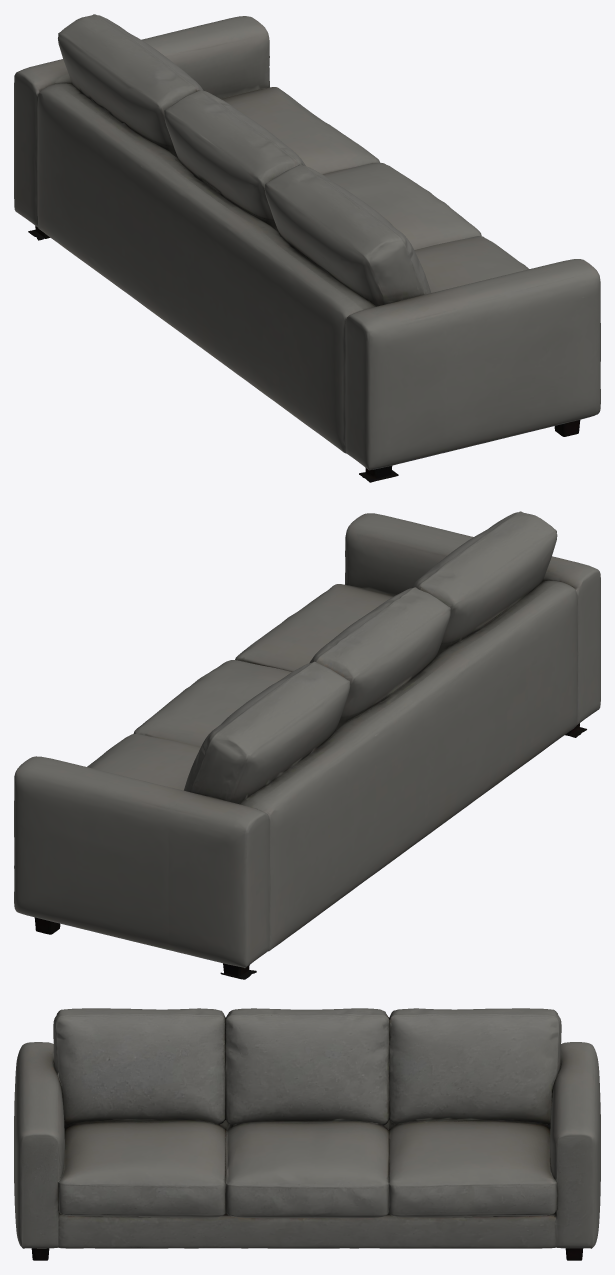
The model's file is sofa-straight.glb.
3 views of the same model, one above another, from view 1: azimuth 30°, elevation 25°; view 2: azimuth 150°, elevation 25°; view 3: azimuth 270°, elevation 25° (orthographic). The views are drawn at different scales.
Visible parts, largest first — view 1: tripo_node_039bde2a-e208-4e45-afdb-dbf33919a489; view 2: tripo_node_039bde2a-e208-4e45-afdb-dbf33919a489; view 3: tripo_node_039bde2a-e208-4e45-afdb-dbf33919a489.
Boxes of the visible parts, x1=… form: tripo_node_039bde2a-e208-4e45-afdb-dbf33919a489: x1=14, y1=14, x2=600, y2=482; tripo_node_039bde2a-e208-4e45-afdb-dbf33919a489: x1=14, y1=511, x2=600, y2=979; tripo_node_039bde2a-e208-4e45-afdb-dbf33919a489: x1=14, y1=1008, x2=600, y2=1260.
Size of the model in its own units: 1.06 by 0.9 by 2.62.
Materials: 1 (1 with a texture image).
